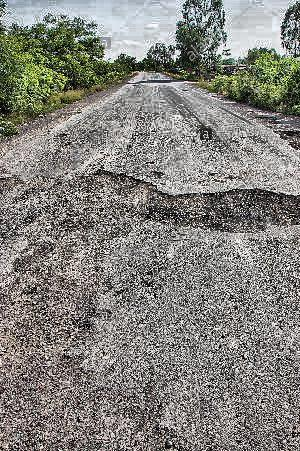pothole: (93, 173, 300, 230)
